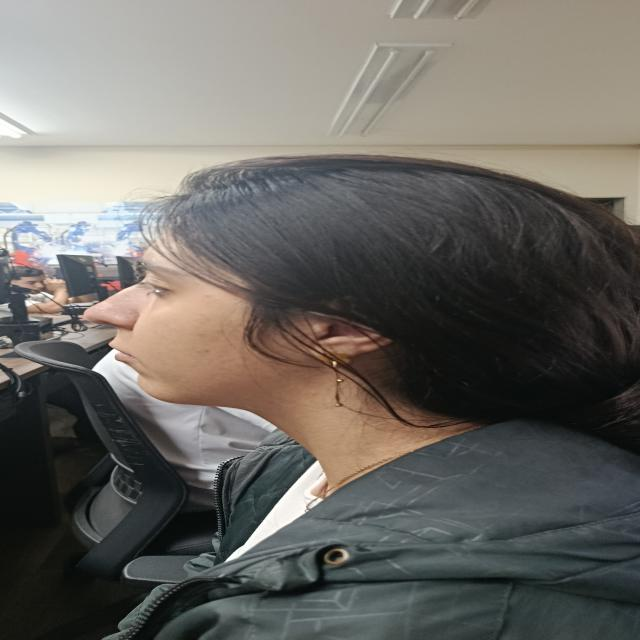sem_oculos: (114, 265, 345, 322), (18, 274, 55, 288)
